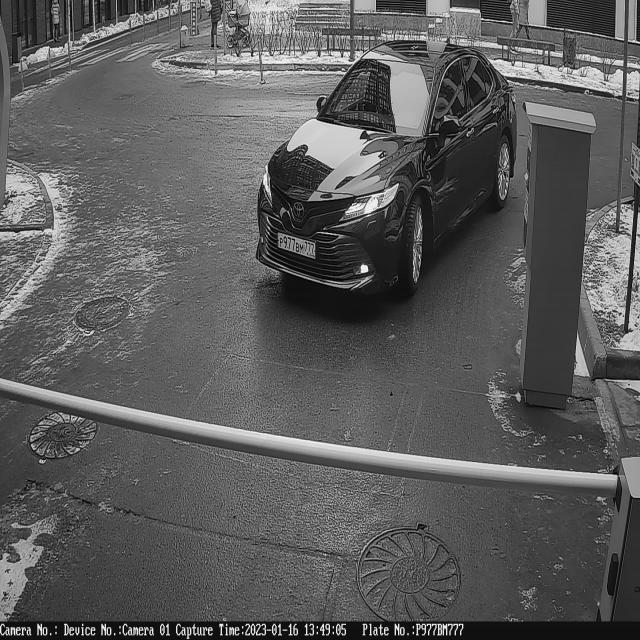car-plate-numbers: (275, 227, 318, 261)
